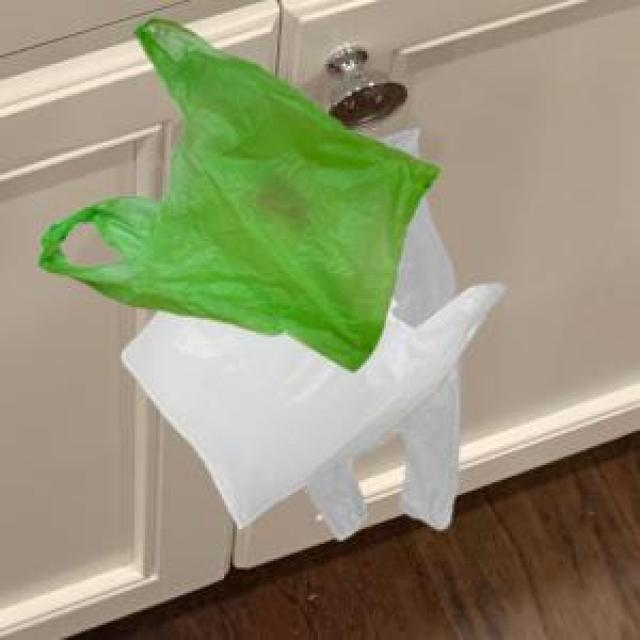waste: (39, 19, 505, 538)
